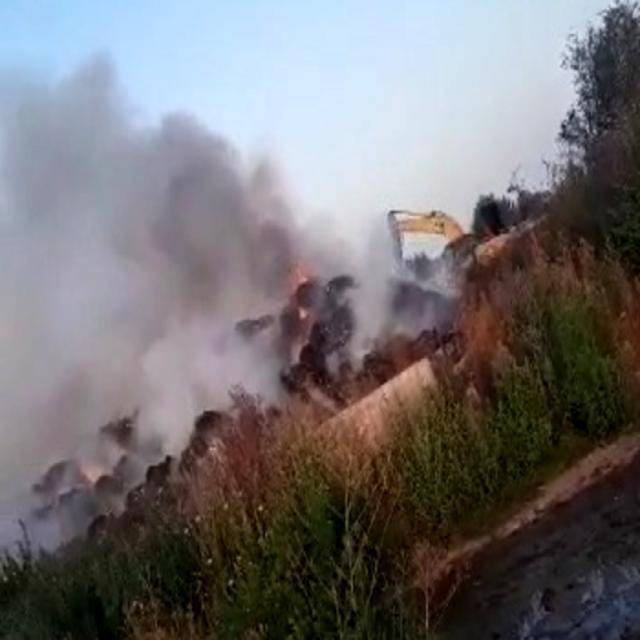Smoke: (2, 2, 410, 506)
